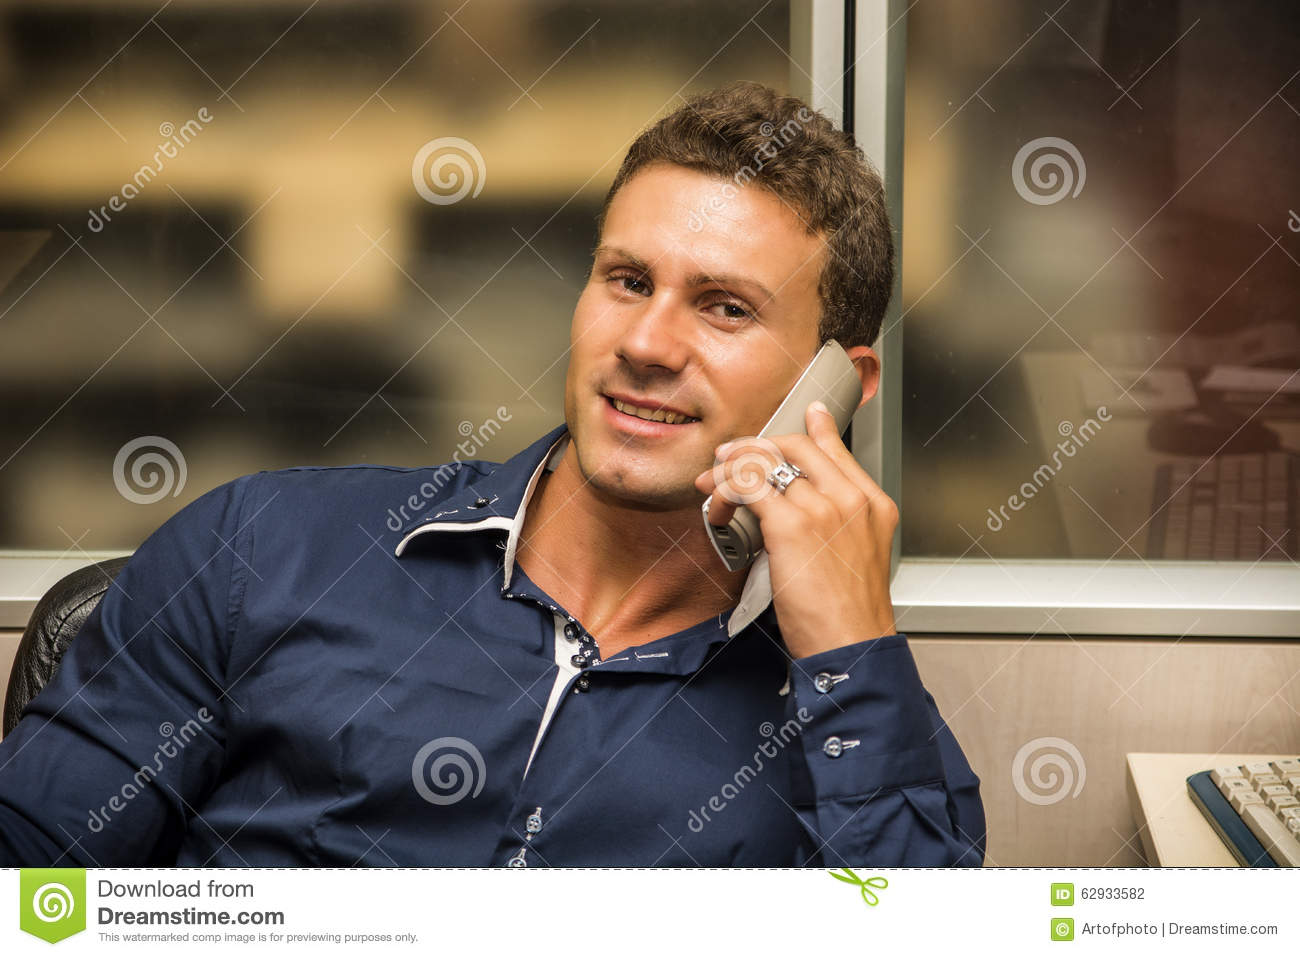phone: (708, 327, 865, 574)
talk: (570, 233, 893, 658)
